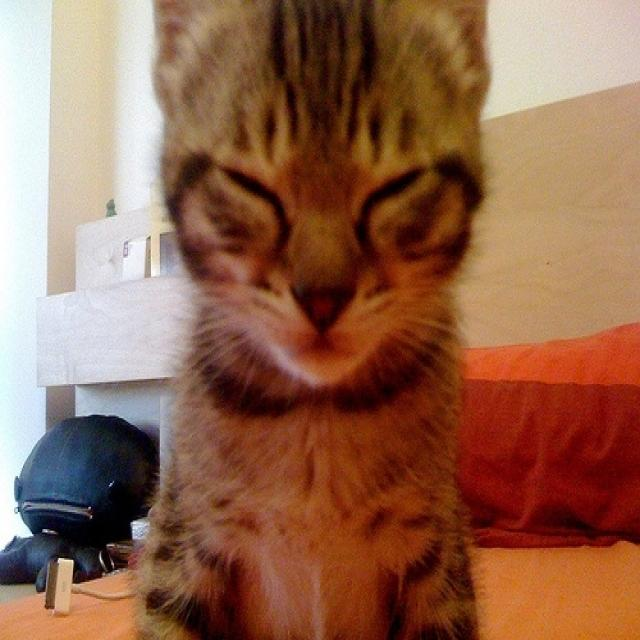cat: (136, 0, 489, 638)
